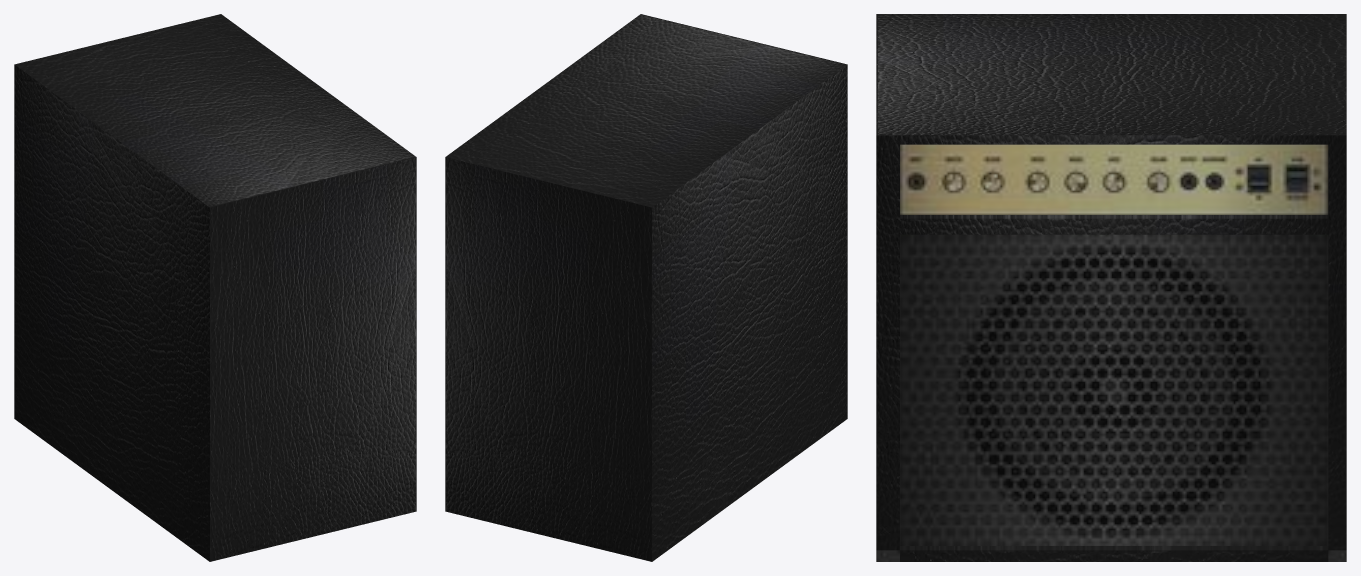
The model's file is GUITAR_AMP_SMALL.fbx.
3 renders of one model, left to right at view 1: azimuth 30°, elevation 25°; view 2: azimuth 150°, elevation 25°; view 3: azimuth 270°, elevation 25°, orthographic. The views are drawn at different scales.
Parts seen in each view (by area): view 1: GUITAR_AMP_SMALL; view 2: GUITAR_AMP_SMALL; view 3: GUITAR_AMP_SMALL.
Boxes of the visible parts, x1,y1,x2,y2 form: GUITAR_AMP_SMALL: [14, 14, 416, 561]; GUITAR_AMP_SMALL: [445, 14, 847, 561]; GUITAR_AMP_SMALL: [876, 14, 1346, 561].
Bounding box in the file's own units: 22.19 × 36.32 × 36.32.
